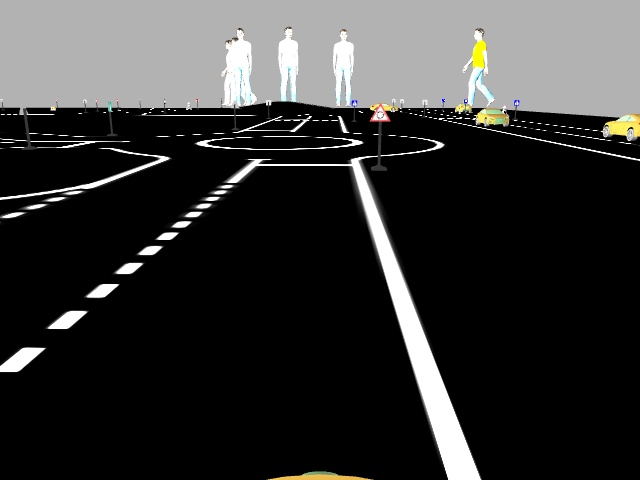Roundabout: (369, 102, 390, 124)
